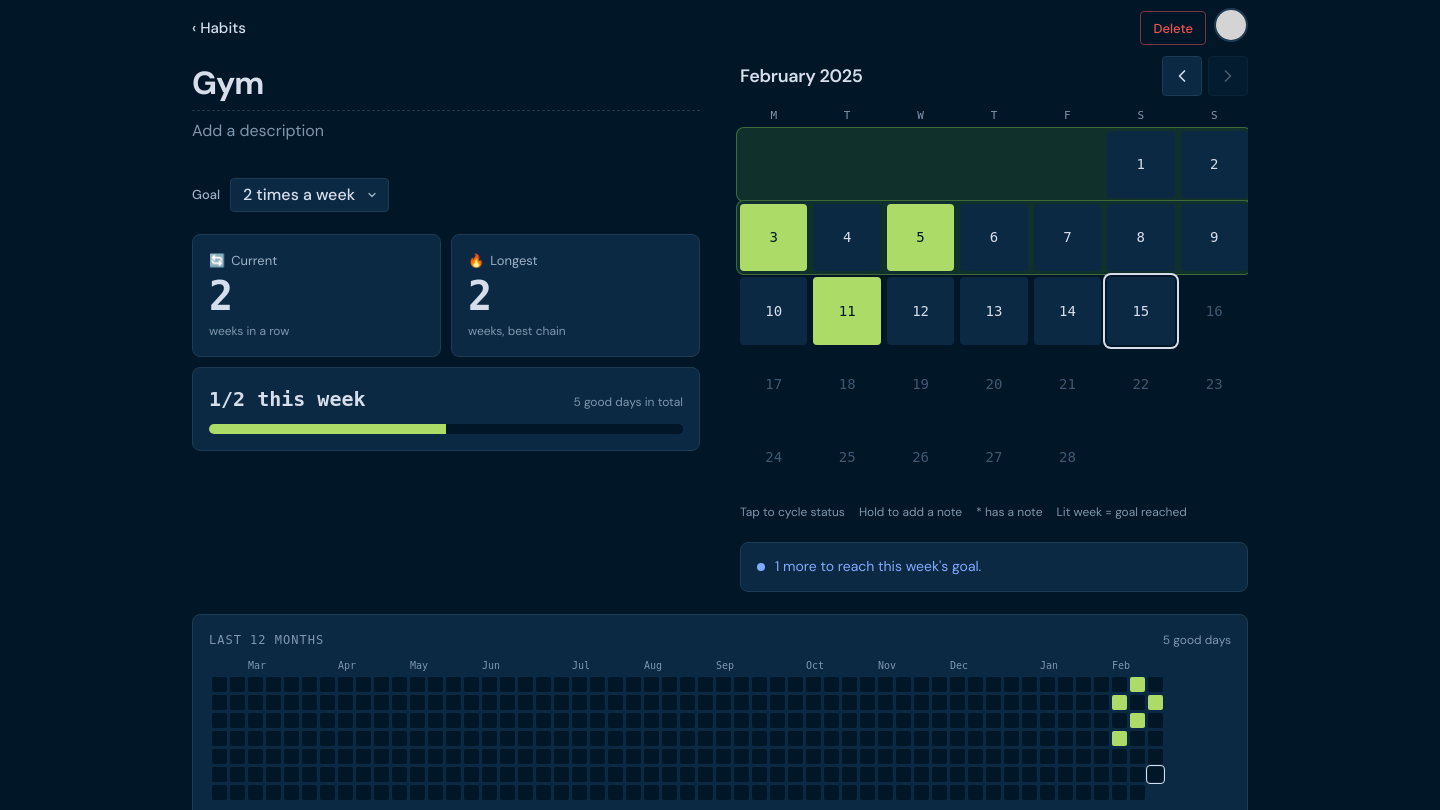
Test: StreakTracker - Complete user journey › should track a weekly goal: week progress, lit weeks, no ✗ and changing the goal
Expected: the field showing "Gym" is shown, [192,56,700,111]
Expected: the dropdown labelled "Goal" shows "2 times a week", [230,178,389,212]
# Completing the current week lights it up and extends the chain
Click the text titled "Day 12" at [920, 311], box [887,277,954,345]
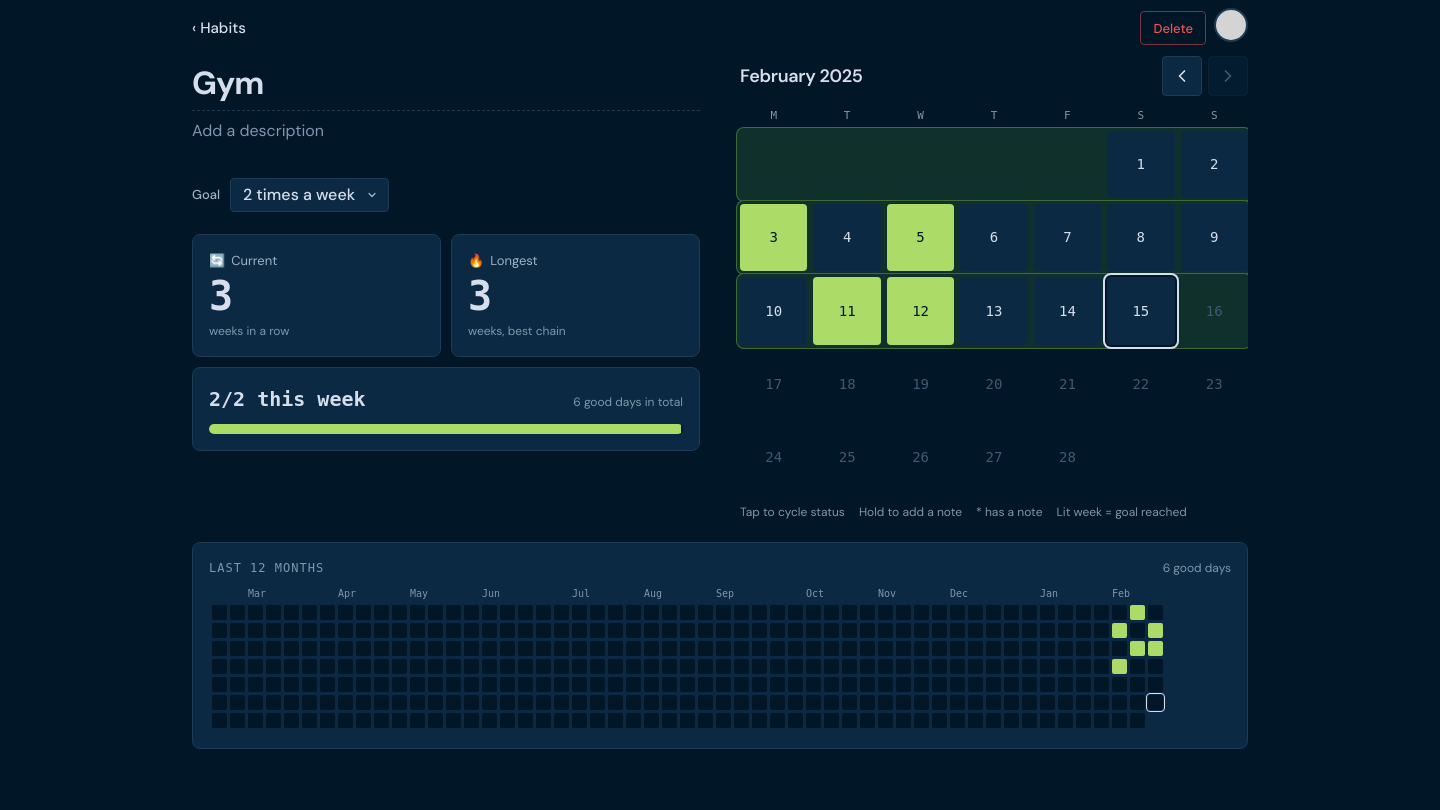
Result: the text "2/2 this week" is shown at [209,384,366,414]
Result: the text "more to reach" is gone
Result: the text "3" below "Current" is shown at [209,273,231,319]
# Tapping a good day again unmarks it instead of marking it bad
Click the text titled "Day 12" at [920, 311], box [887,277,954,345]
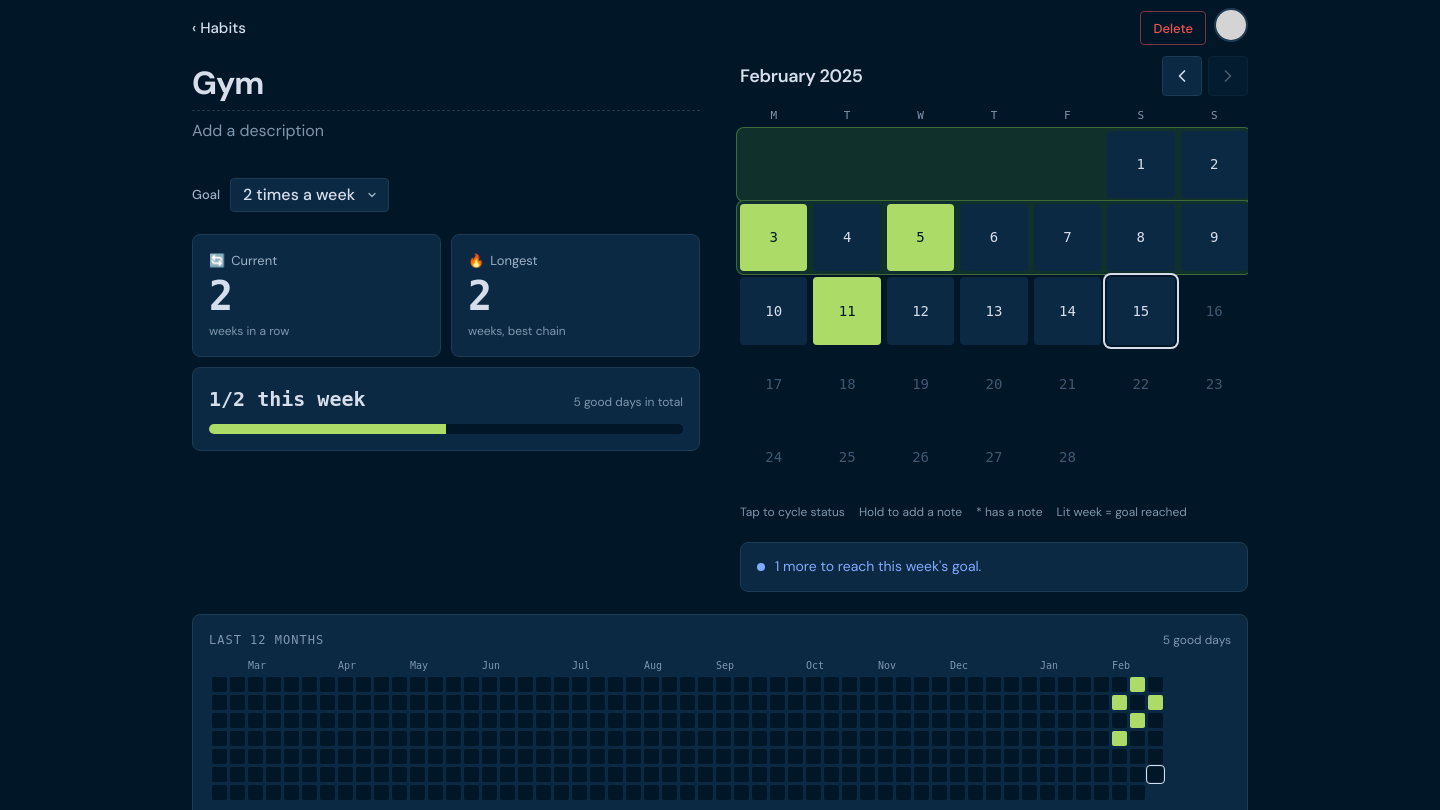
Result: the text "1/2 this week" is shown at [209,384,366,414]
# The goal applies retroactively when changed
Select "Every day" in the dropdown labelled "Goal" at [310, 195], box [230,178,389,212]
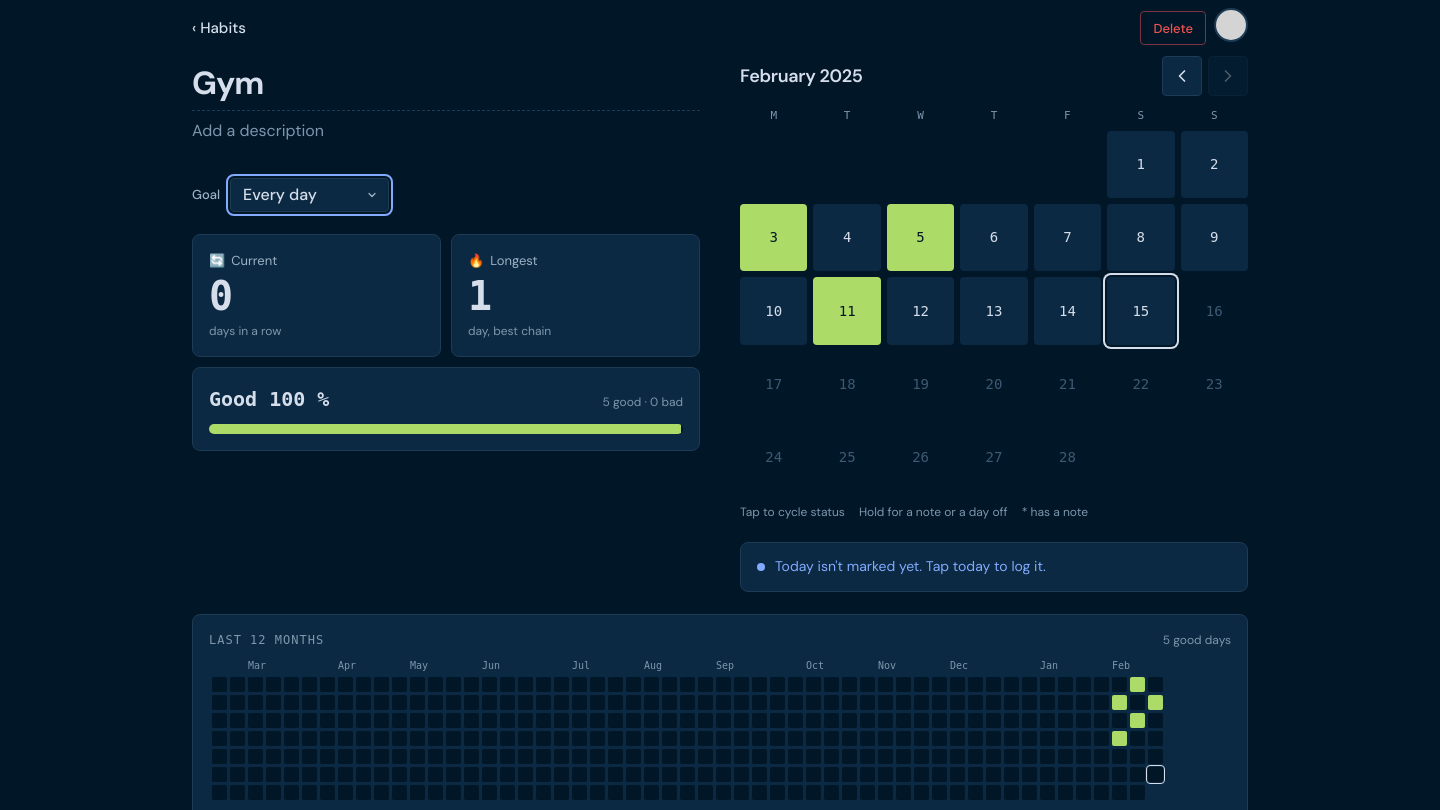
Result: the text "Today isn't marked yet. Tap today to log it." is shown at [740,542,1248,592]
Result: the text "this week" is gone
